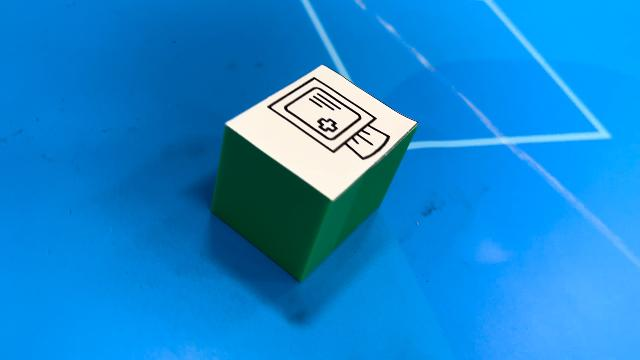napkin: (208, 62, 420, 284)
